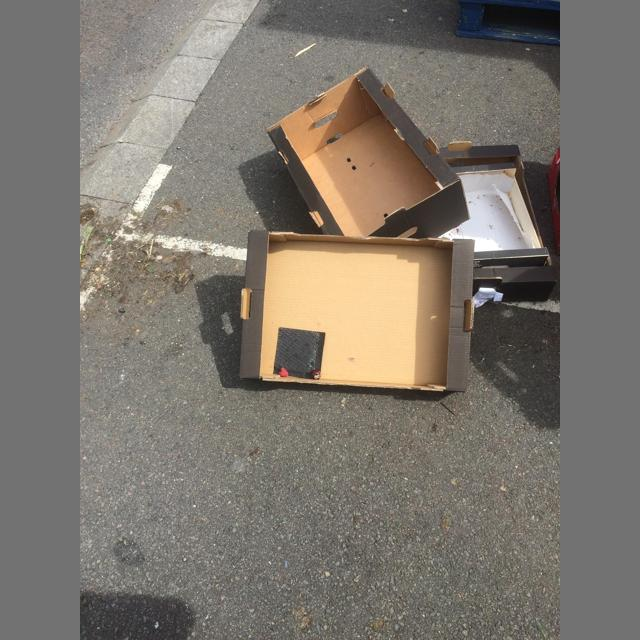litter: (239, 230, 475, 391), (267, 67, 471, 239), (438, 141, 557, 302), (295, 44, 316, 57), (311, 370, 321, 379), (279, 368, 289, 377)
